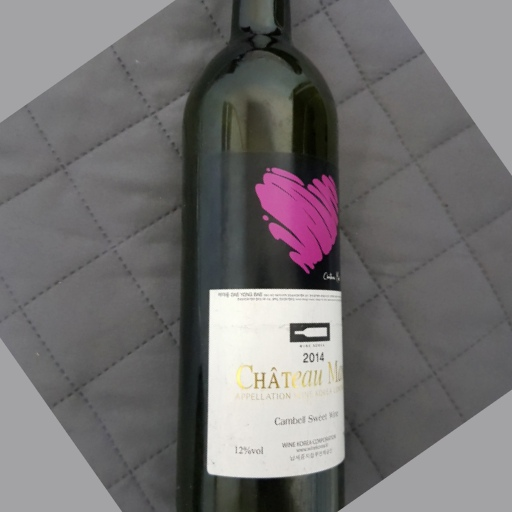Glass_2: (175, 2, 348, 512)
